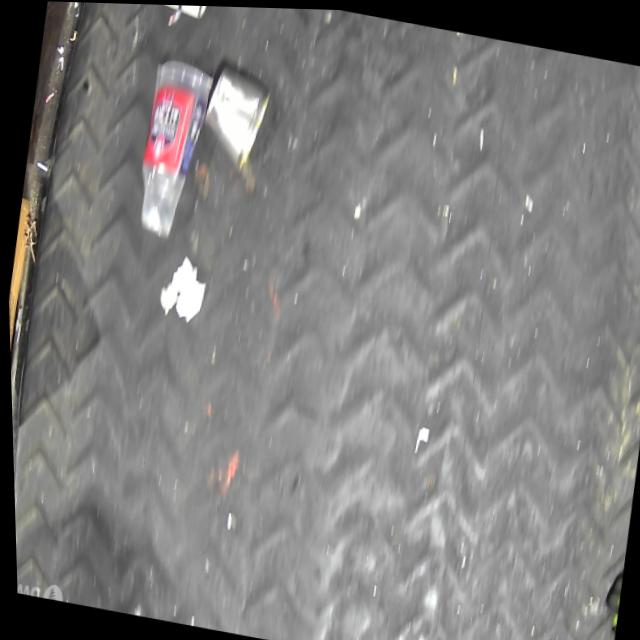can: (194, 58, 274, 175), (631, 261, 640, 377)
